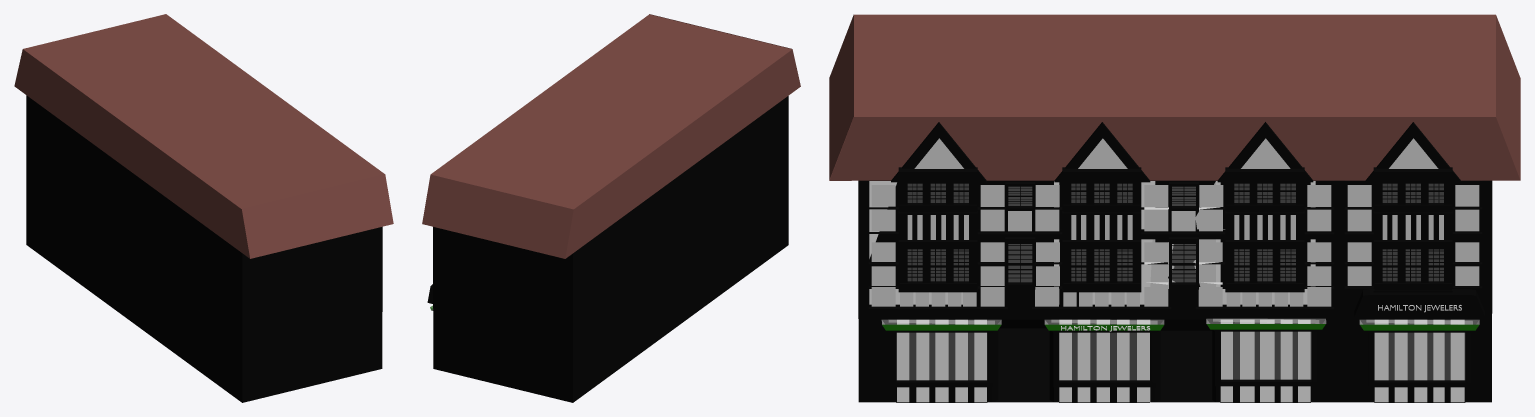
3 views of the same model, side by side, from view 1: azimuth 30°, elevation 25°; view 2: azimuth 150°, elevation 25°; view 3: azimuth 270°, elevation 25° (orthographic). The views are drawn at different scales.
Parts seen in each view (by area): view 1: Plane.006; view 2: Plane.006; view 3: Plane.006.
Boxes of the visible parts, x1,y1,x2,y2 form: Plane.006: (14,14,393,402); Plane.006: (422,14,800,402); Plane.006: (829,14,1520,402).
Size of the model in its own units: 44.29 by 54.96 by 120.
